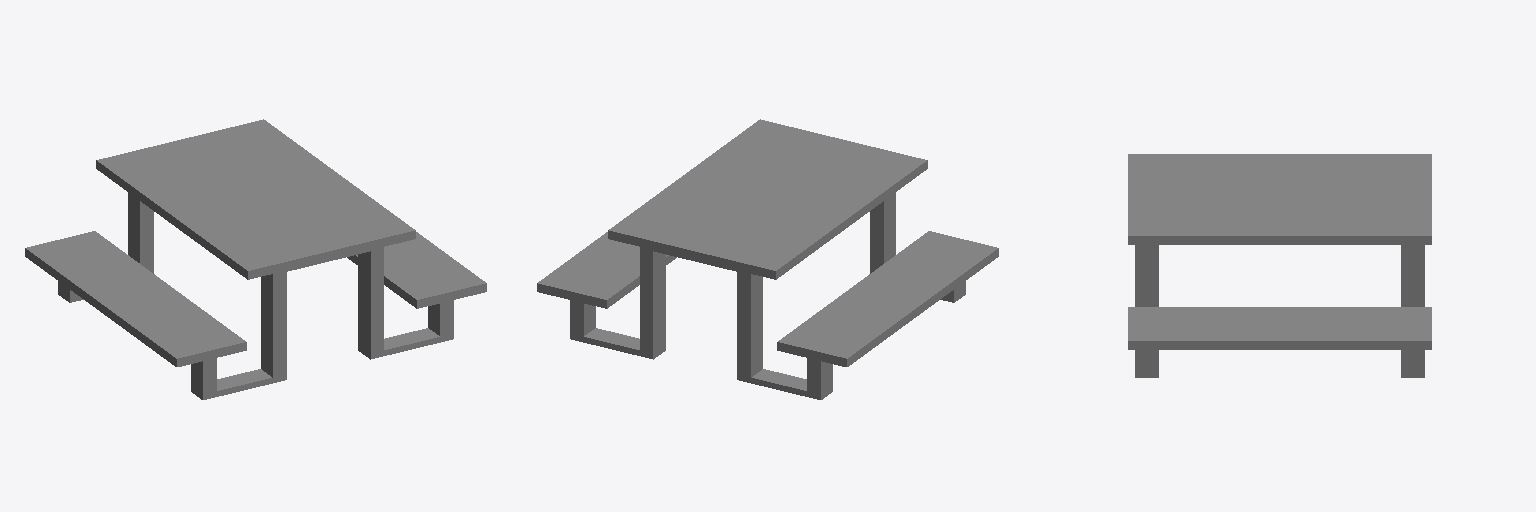
The model's file is mesa-02.obj.
3 views of the same model, side by side, from view 1: azimuth 30°, elevation 25°; view 2: azimuth 150°, elevation 25°; view 3: azimuth 270°, elevation 25° (orthographic).
Visible parts, largest first — view 1: Box017, Box016, Box001, Box015; view 2: Box017, Box016, Box001, Box015; view 3: Box017, Box015, Box001.
Part boxes in pixels (bbox=[...]): Box017: bbox=[96, 119, 415, 279]; Box016: bbox=[25, 231, 246, 366]; Box001: bbox=[58, 193, 453, 399]; Box015: bbox=[347, 232, 486, 308]; Box017: bbox=[608, 119, 927, 279]; Box016: bbox=[777, 231, 998, 366]; Box001: bbox=[570, 193, 965, 399]; Box015: bbox=[537, 232, 676, 308]; Box017: bbox=[1128, 154, 1431, 244]; Box015: bbox=[1128, 307, 1431, 349]; Box001: bbox=[1135, 245, 1424, 377].
Size of the model in its own units: 111 by 41.54 by 94.